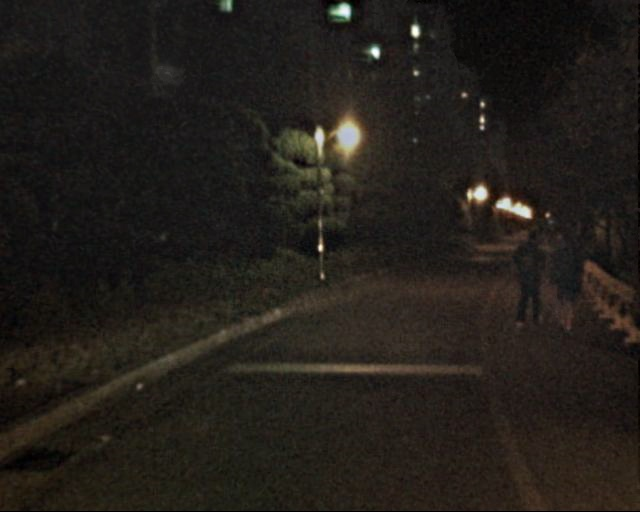person: (506, 230, 550, 338), (541, 233, 584, 338)
